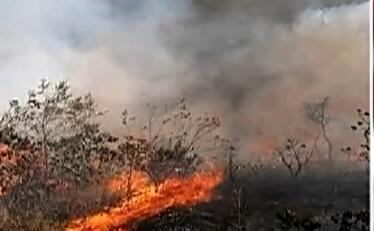fire: (68, 163, 229, 230)
yanwu: (1, 0, 368, 164)
